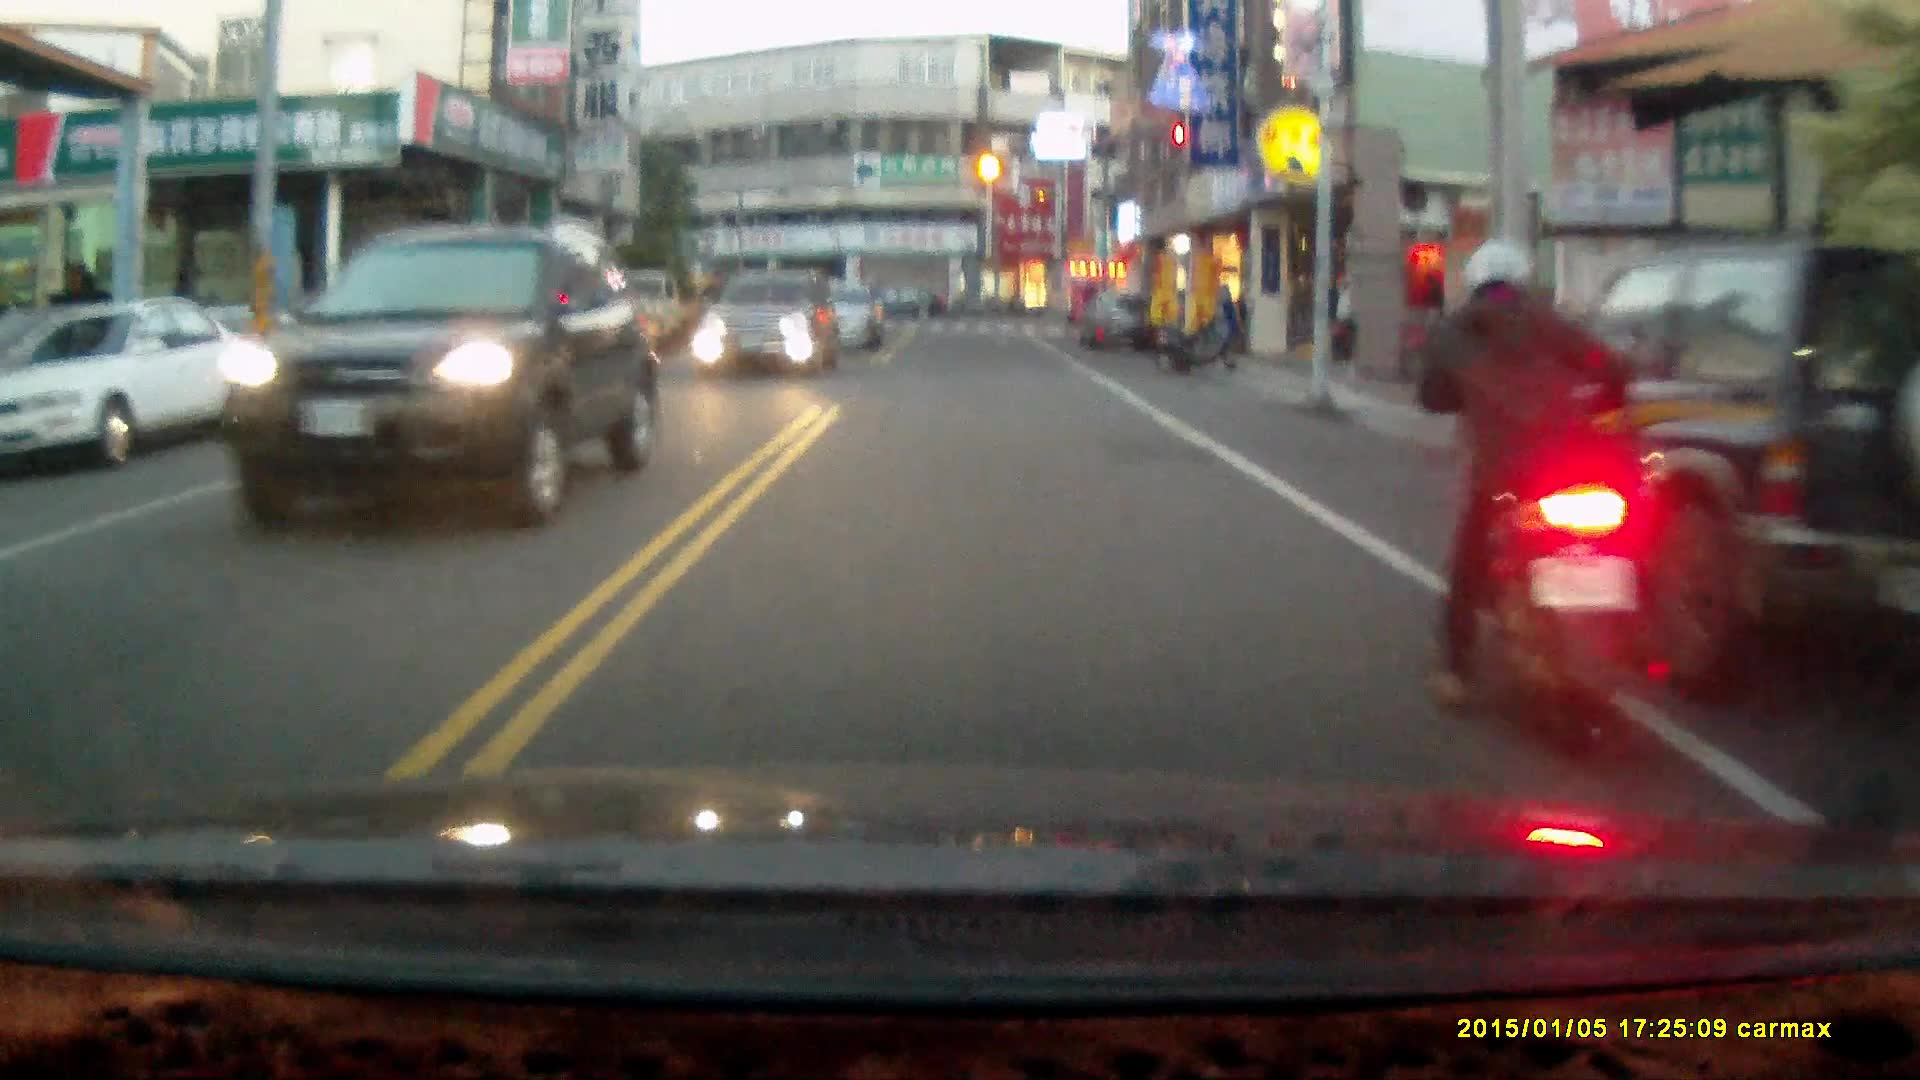rider: (1406, 238, 1665, 769)
vehicle: (1481, 237, 1920, 678), (219, 221, 643, 531), (1, 295, 280, 464), (696, 268, 841, 378), (780, 275, 883, 351), (1078, 290, 1154, 356)
